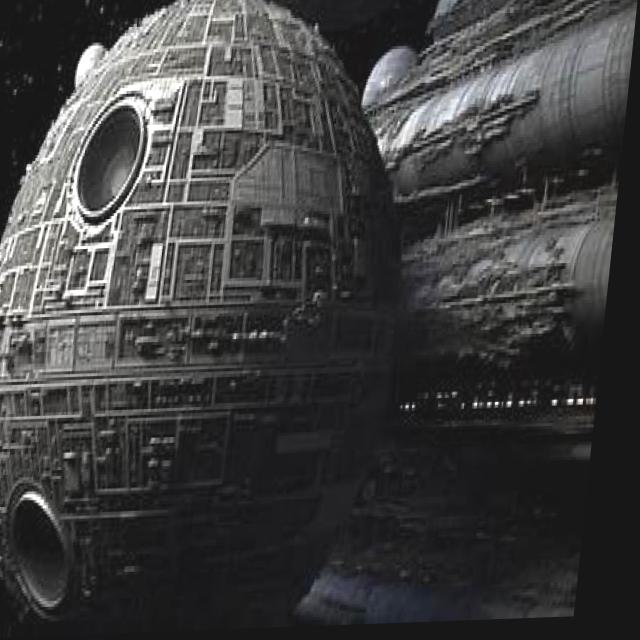deathStar: (0, 0, 448, 640)
